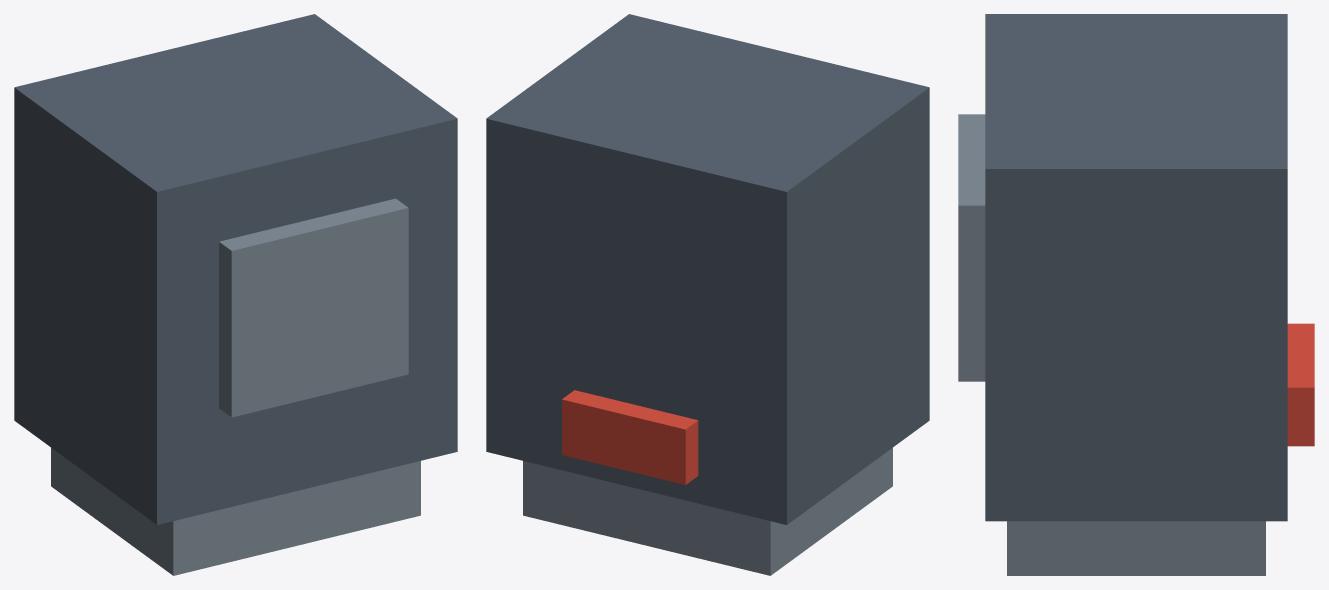
3 renders of one model, left to right at view 1: azimuth 30°, elevation 25°; view 2: azimuth 150°, elevation 25°; view 3: azimuth 270°, elevation 25°, orthographic. The views are drawn at different scales.
Parts seen in each view (by area): view 1: GEO_module_storage_visual_01_LOD0; view 2: GEO_module_storage_visual_01_LOD0; view 3: GEO_module_storage_visual_01_LOD0.
Boxes of the visible parts, x1=… form: GEO_module_storage_visual_01_LOD0: x1=14, y1=14, x2=457, y2=575; GEO_module_storage_visual_01_LOD0: x1=486, y1=14, x2=929, y2=575; GEO_module_storage_visual_01_LOD0: x1=958, y1=14, x2=1314, y2=575.
Size of the model in its own units: 0.034 by 0.043 by 0.033.
